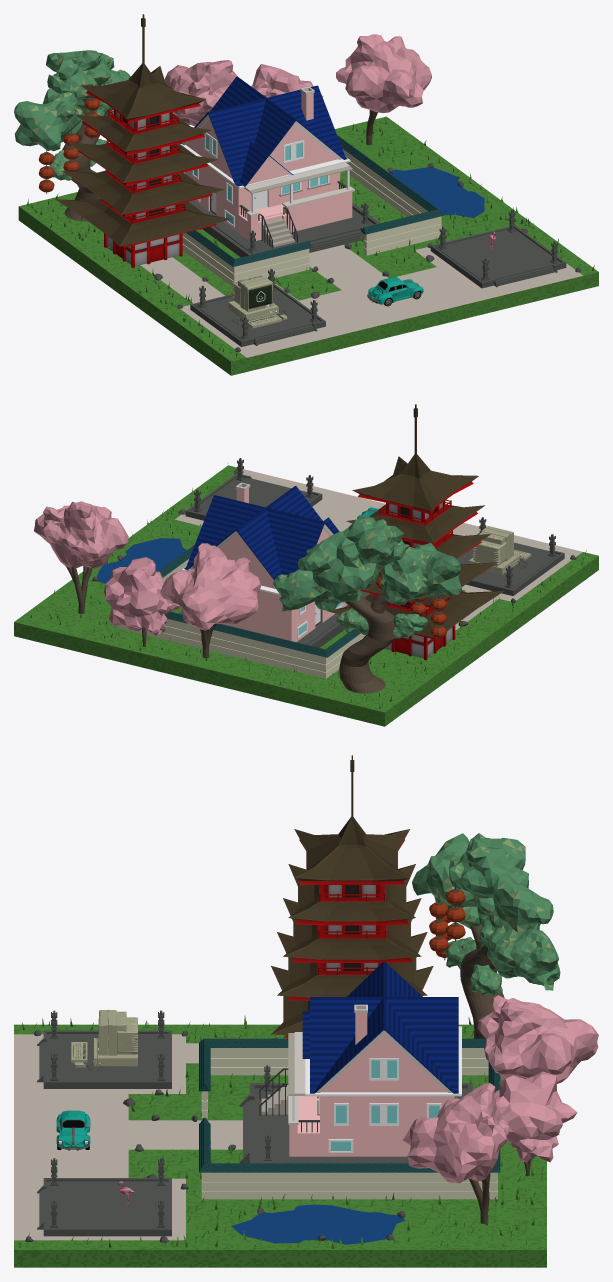
3 views of the same model, one above another, from view 1: azimuth 30°, elevation 25°; view 2: azimuth 150°, elevation 25°; view 3: azimuth 270°, elevation 25° (orthographic). The views are drawn at different scales.
Visible parts, largest first — view 1: Cube.005, Cube.313, OBJRANDOM_RETRO_PC, VEHICLES_VOLKSWAGEN; view 2: Cube.005, Cube.313, OBJRANDOM_RETRO_PC; view 3: Cube.005, Cube.313, OBJRANDOM_RETRO_PC, VEHICLES_VOLKSWAGEN.
Boxes of the visible parts, x1,y1,x2,y2 form: Cube.005: [14, 14, 598, 375]; Cube.313: [179, 76, 354, 248]; OBJRANDOM_RETRO_PC: [228, 275, 287, 328]; VEHICLES_VOLKSWAGEN: [367, 276, 423, 306]; Cube.005: [14, 404, 598, 726]; Cube.313: [181, 482, 347, 642]; OBJRANDOM_RETRO_PC: [469, 526, 531, 574]; Cube.005: [14, 755, 598, 1267]; Cube.313: [259, 961, 461, 1156]; OBJRANDOM_RETRO_PC: [71, 1010, 137, 1070]; VEHICLES_VOLKSWAGEN: [56, 1110, 90, 1150].
Bounding box in the file's own units: 4528 × 2640 × 4389.
Materials: 41 (6 with a texture image).
